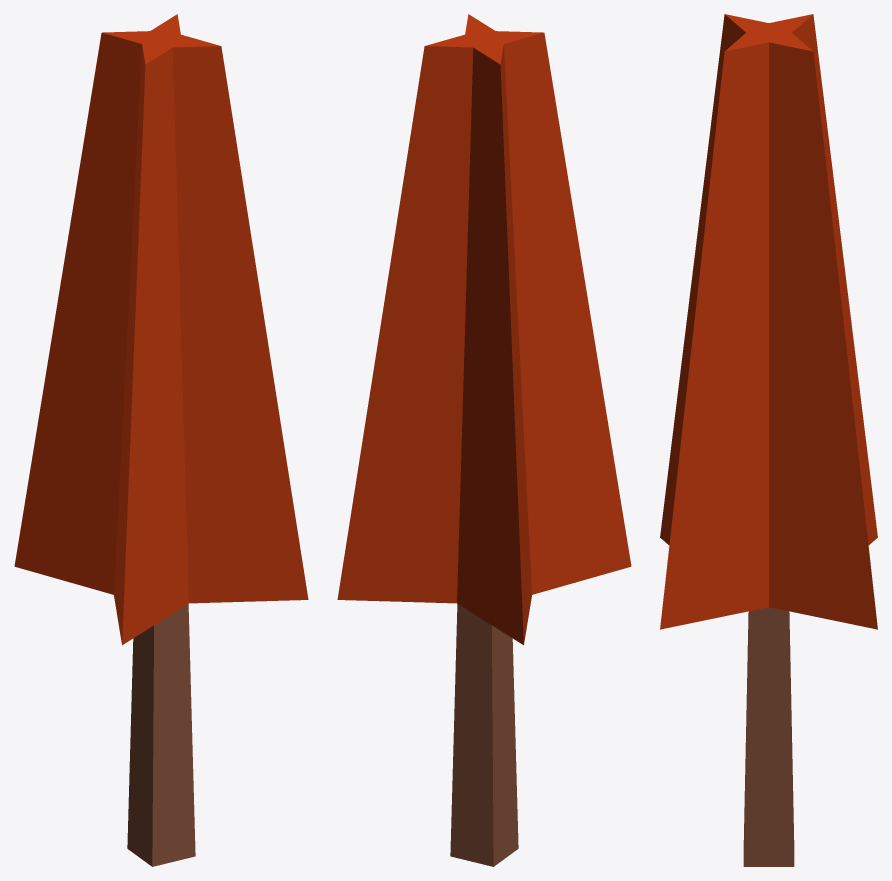
Rendered from Tree_27_summer_red_mat.fbx.
3 renders of one model, left to right at view 1: azimuth 30°, elevation 25°; view 2: azimuth 150°, elevation 25°; view 3: azimuth 270°, elevation 25°, orthographic.
Parts seen in each view (by area): view 1: Tree_27_summer_red_mat; view 2: Tree_27_summer_red_mat; view 3: Tree_27_summer_red_mat.
Boxes of the visible parts, x1,y1,x2,y2 form: Tree_27_summer_red_mat: (14,14,308,866); Tree_27_summer_red_mat: (337,14,631,866); Tree_27_summer_red_mat: (660,14,877,866).
Size of the model in its own units: 63.19 by 263 by 63.19.
